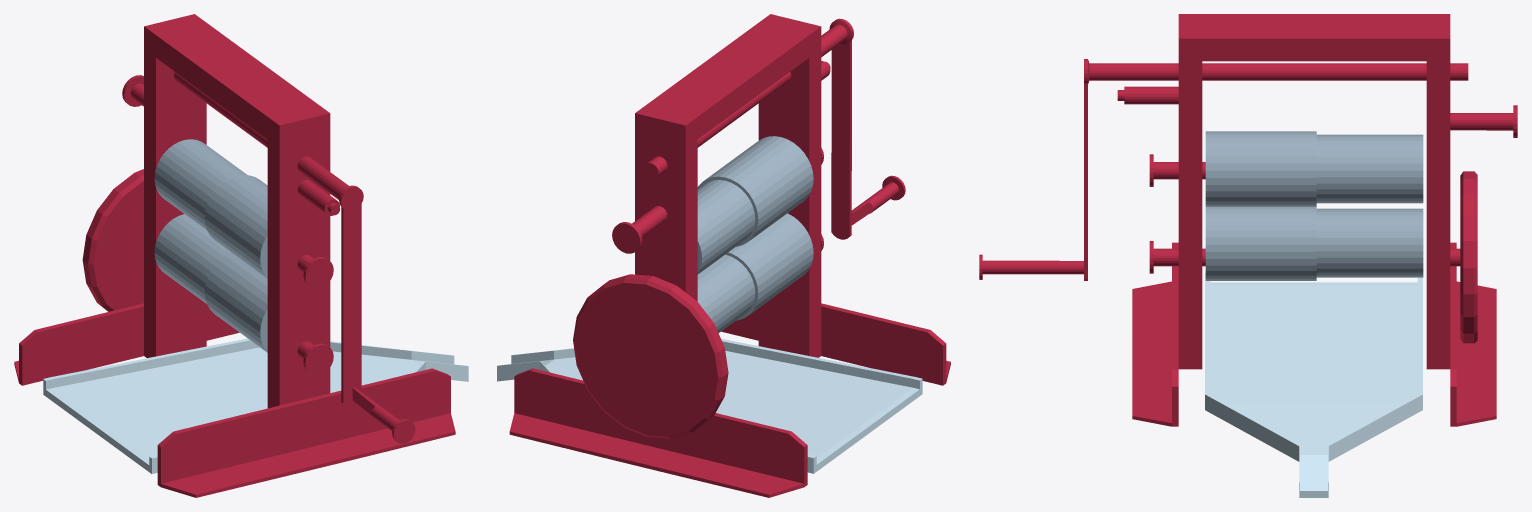
File: trapiche.fbx
The picture shows the model from 3 angles, left to right: view 1: azimuth 30°, elevation 25°; view 2: azimuth 150°, elevation 25°; view 3: azimuth 270°, elevation 25°; orthographic projection.
Parts seen in each view (by area): view 1: base, charola, Cylinder, Cylinder.006, Cylinder.001, Cylinder.005, Cylinder.004, Cylinder.002, Cylinder.003, Cylinder.008; view 2: base, Cylinder.005, charola, Cylinder, Cylinder.006, Cylinder.001, Cylinder.008; view 3: base, charola, Cylinder, Cylinder.006, Cylinder.001, Cylinder.005, Cylinder.008, Cylinder.003, Cylinder.004, Cylinder.002.
Boxes of the visible parts, x1,y1,x2,y2 form: base: [14, 14, 455, 497]; charola: [43, 338, 468, 473]; Cylinder: [154, 139, 267, 278]; Cylinder.006: [154, 214, 267, 352]; Cylinder.001: [174, 72, 415, 443]; Cylinder.005: [82, 169, 143, 311]; Cylinder.004: [297, 341, 333, 375]; Cylinder.002: [297, 255, 333, 288]; Cylinder.003: [297, 180, 340, 215]; Cylinder.008: [122, 75, 143, 106]; base: [509, 14, 950, 497]; Cylinder.005: [573, 274, 728, 438]; charola: [497, 338, 922, 473]; Cylinder: [697, 136, 813, 274]; Cylinder.006: [697, 213, 813, 332]; Cylinder.001: [643, 18, 905, 239]; Cylinder.008: [612, 206, 667, 253]; base: [1132, 14, 1496, 426]; charola: [1205, 273, 1422, 497]; Cylinder: [1205, 131, 1423, 206]; Cylinder.006: [1205, 207, 1423, 280]; Cylinder.001: [979, 59, 1468, 280]; Cylinder.005: [1450, 171, 1477, 343]; Cylinder.008: [1450, 105, 1517, 137]; Cylinder.003: [1117, 86, 1178, 104]; Cylinder.004: [1149, 241, 1205, 273]; Cylinder.002: [1149, 154, 1205, 186].
Size of the model in its own units: 867 by 807 by 1087.
